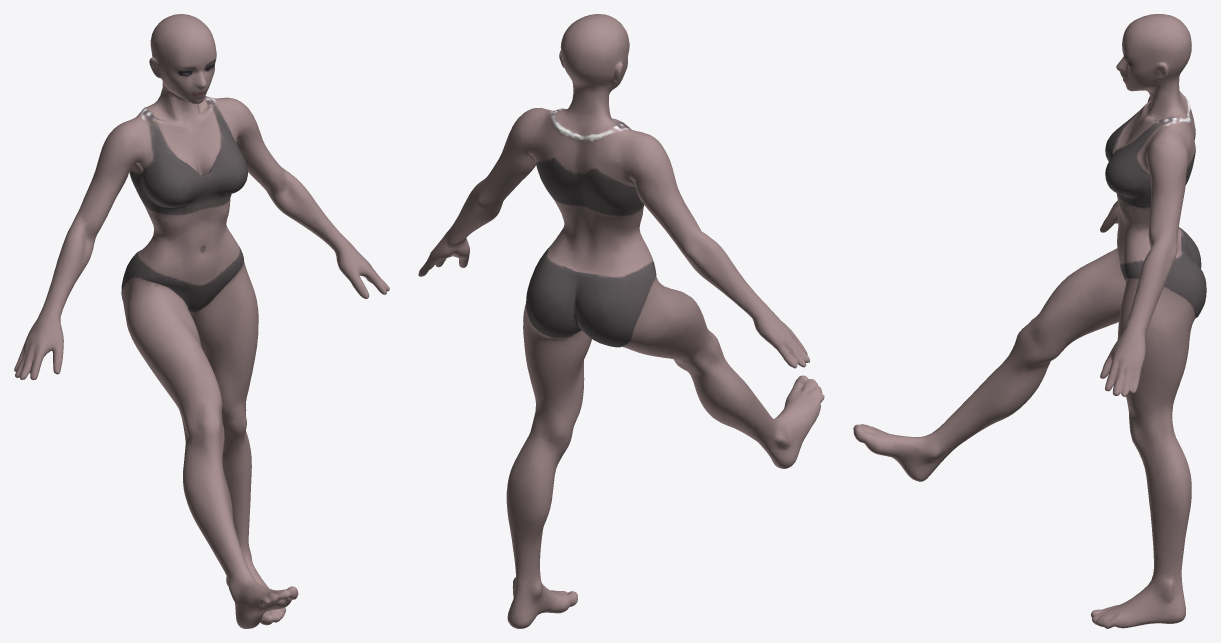
Rendered from bounded_soft-ThighL-45.glb.
The picture shows the model from 3 angles, left to right: view 1: azimuth 30°, elevation 25°; view 2: azimuth 150°, elevation 25°; view 3: azimuth 270°, elevation 25°; orthographic projection. The views are drawn at different scales.
Visible parts, largest first — view 1: bounded_soft-ThighL-45; view 2: bounded_soft-ThighL-45; view 3: bounded_soft-ThighL-45.
Boxes of the visible parts, left/top/right/bottom form: bounded_soft-ThighL-45: left=14, top=14, right=389, bottom=628; bounded_soft-ThighL-45: left=418, top=14, right=824, bottom=628; bounded_soft-ThighL-45: left=853, top=14, right=1206, bottom=628.
Size of the model in its own units: 0.6509 by 1 by 0.5545.
1 material, 1 textured.
